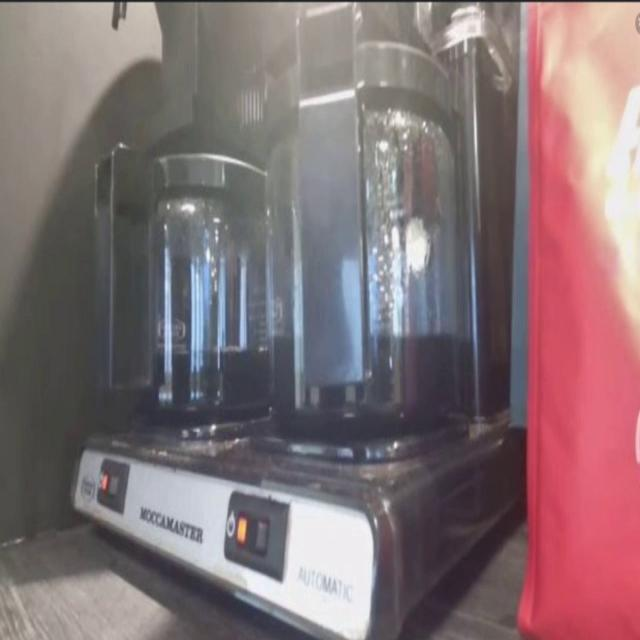coffee: (254, 28, 492, 443), (116, 124, 289, 442)
